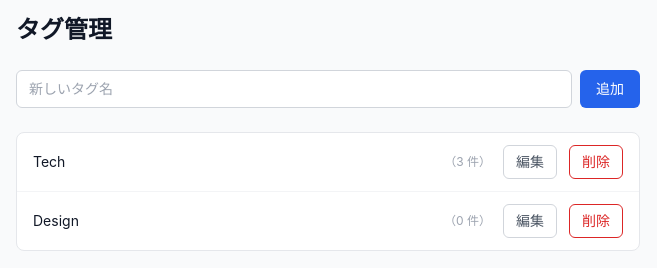
Test: TagsPage › 削除確認で OK を選択するとタグが消える
Expected: the text "Tech" is shown, [33,153,65,170]
Click the button "削除" in the row of "Tech".
click(596, 162)  # box [569,145,623,179]
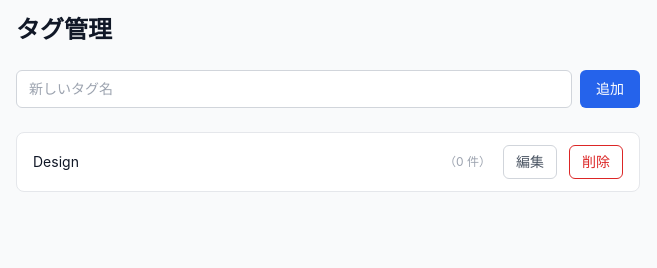
Expected: the text "Tech" is gone
